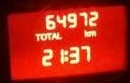1: (59, 47, 64, 64)
2: (40, 47, 53, 66), (88, 11, 97, 26)
3: (68, 45, 79, 64)
4: (55, 14, 66, 27)
6: (44, 13, 55, 29)
7: (79, 44, 91, 62), (78, 12, 87, 25)
9: (66, 12, 76, 27)
X: (63, 49, 68, 61), (88, 30, 96, 36), (56, 31, 62, 39), (40, 32, 46, 40), (45, 32, 51, 39), (83, 29, 88, 36), (51, 32, 56, 39), (34, 33, 39, 40)
